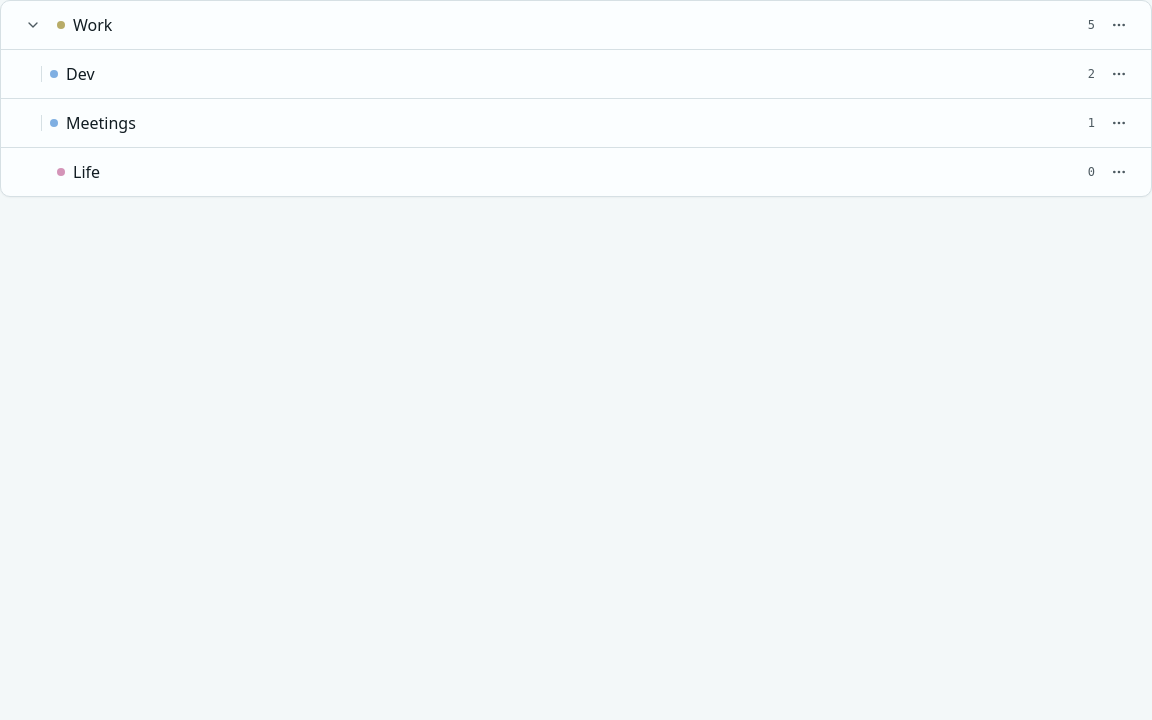
HierarchicalListCard 移动端编辑底部弹层（<768px） › ⋯ 菜单 → 添加子项（顶层父行）→ SheetContent 打开并可创建
Expected: the text "Work" is shown, x1=73 y1=14 x2=112 y2=36
Click the button named "More actions" in the row of "Work".
click(1119, 25)  # box x1=1103 y1=9 x2=1135 y2=41
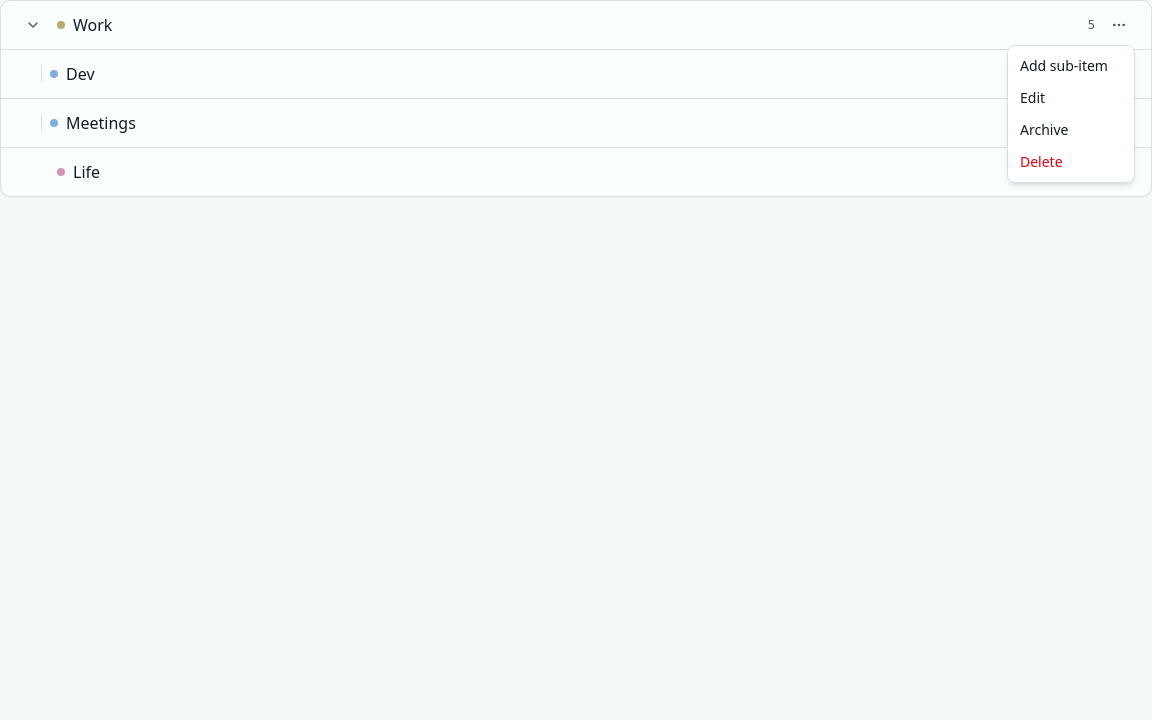
Click the menu item "Add sub-item".
click(1064, 66)  # box x1=1020 y1=56 x2=1108 y2=75
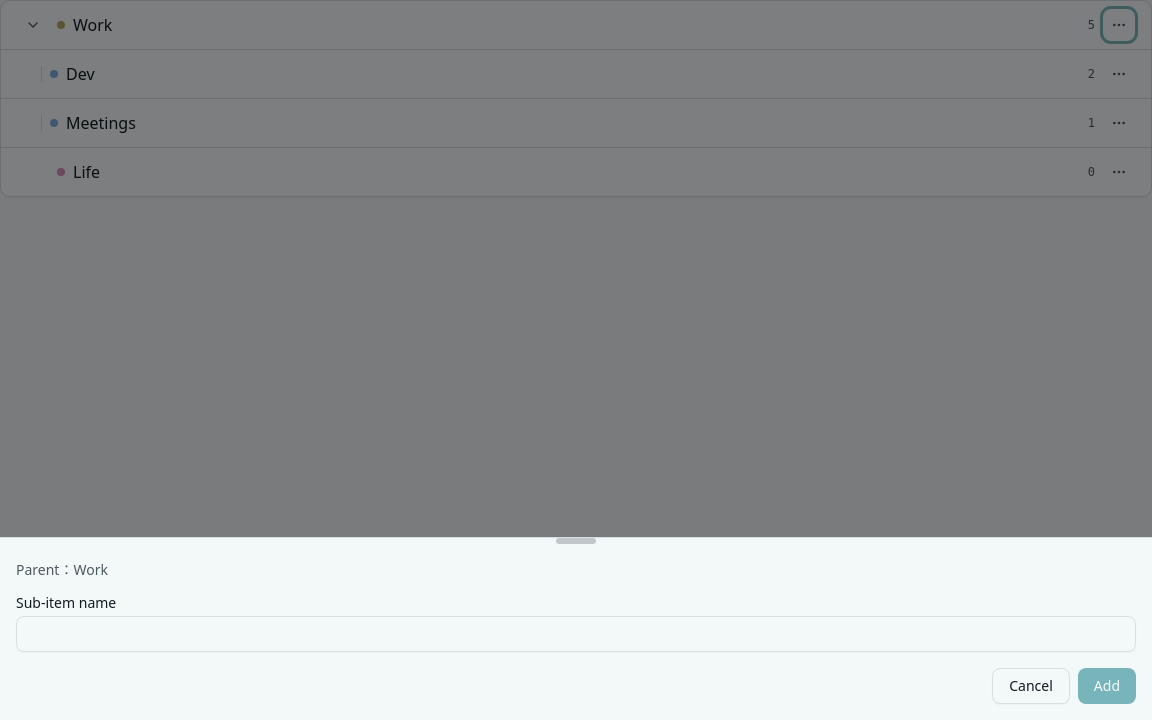
Result: the field labelled "Sub-item name" is shown
Result: the text "Parent：Work" is shown at x1=16 y1=560 x2=108 y2=579
Type "New child" into the field labelled "Sub-item name".
click(576, 634); type("New child")  # box x1=16 y1=616 x2=1136 y2=652
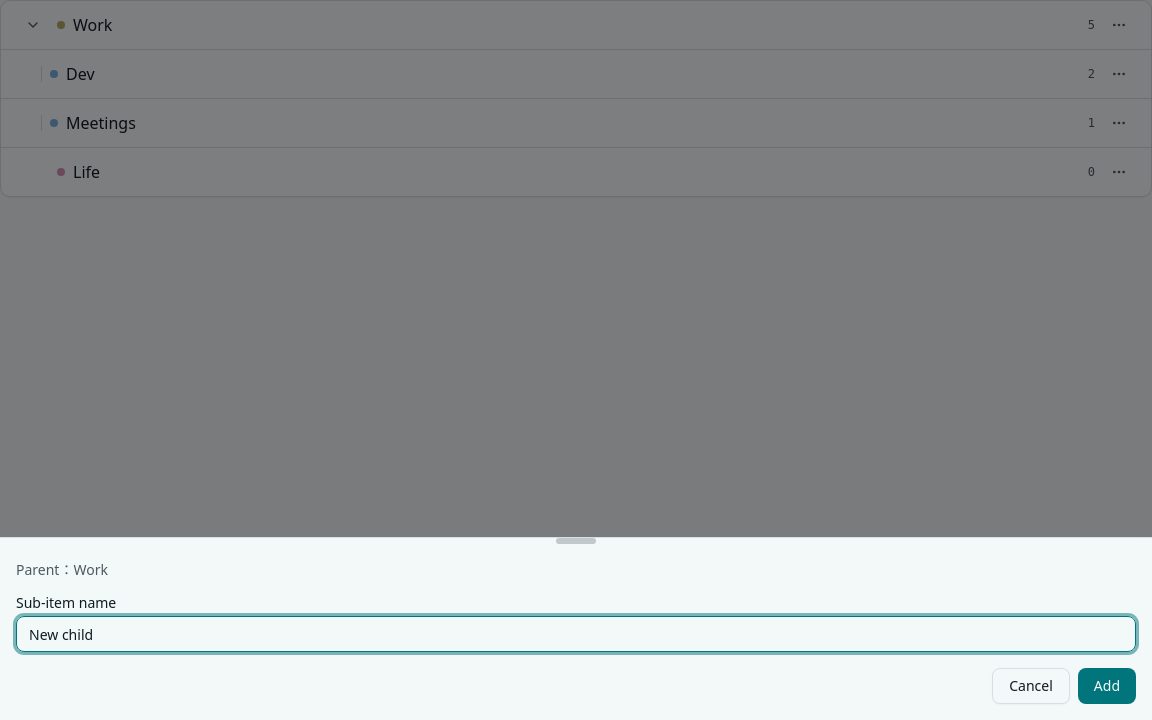
Click the button "Add".
click(1107, 686)  # box x1=1078 y1=668 x2=1136 y2=704
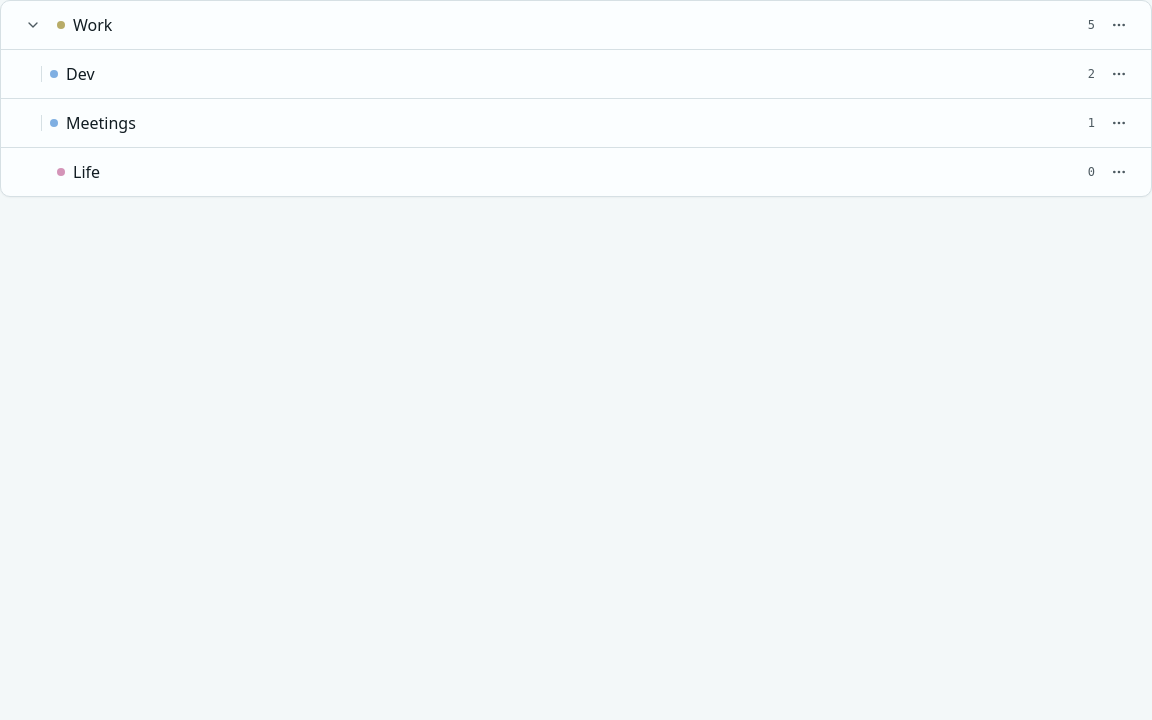
Result: the dialog is gone
